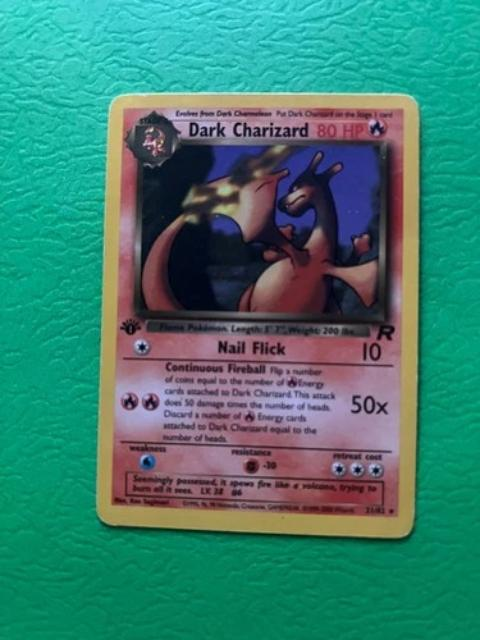Card: (91, 88, 424, 544)
Name: (181, 119, 316, 144)
